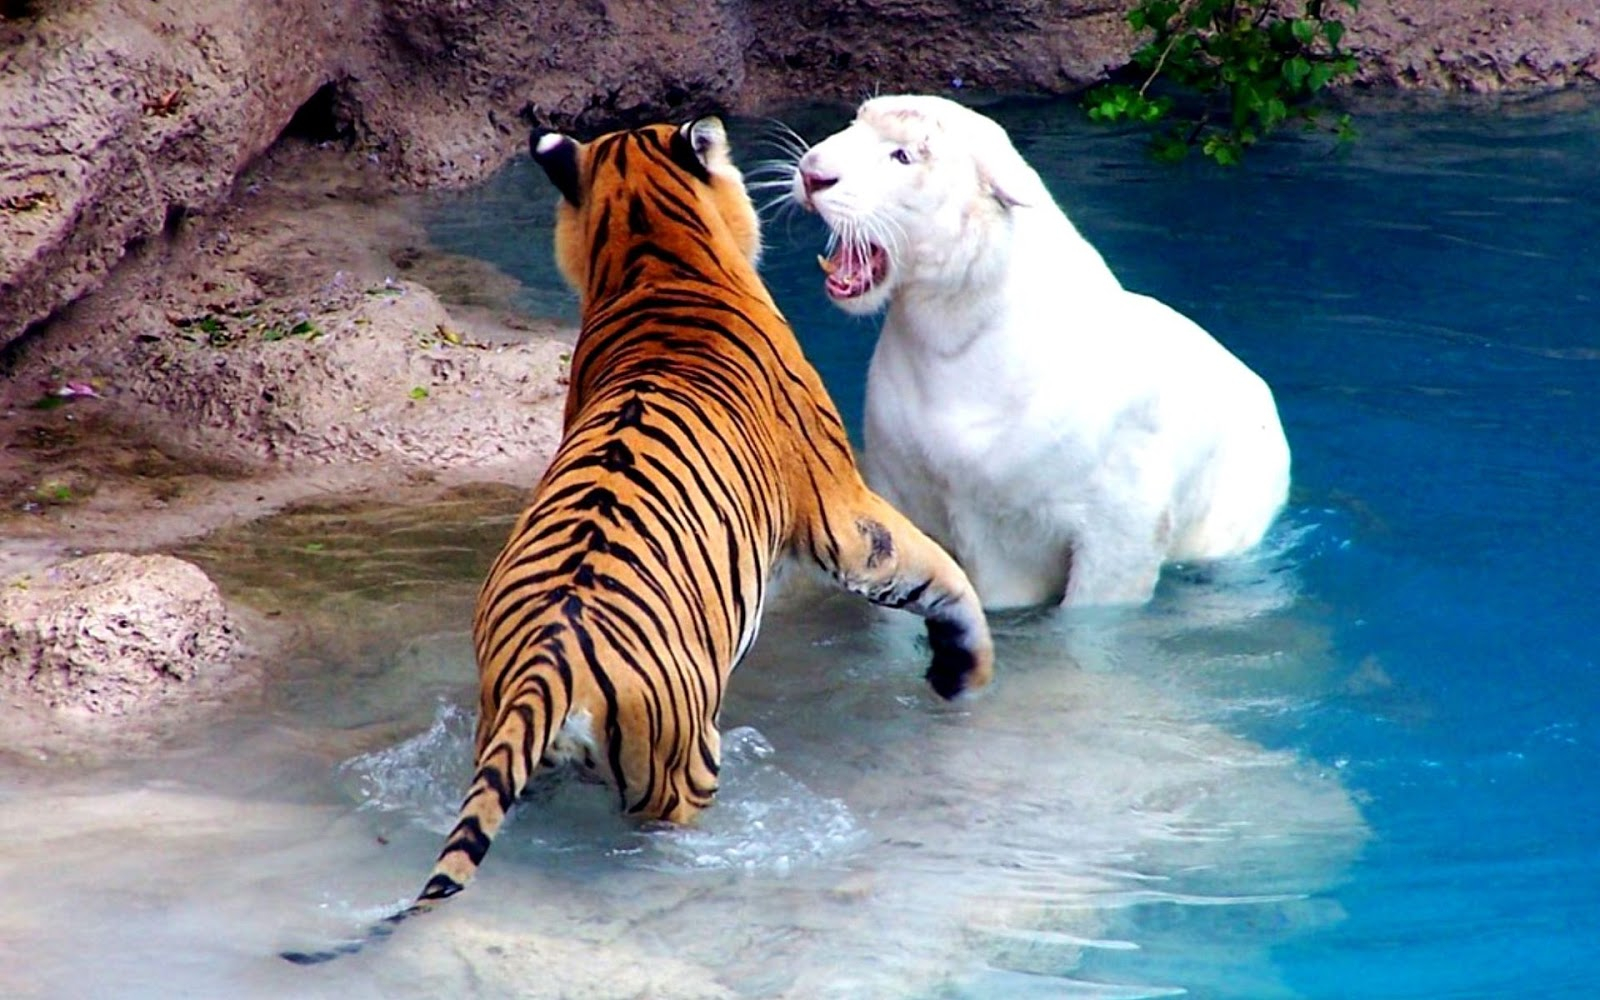Tigrew: (481, 97, 995, 838)
